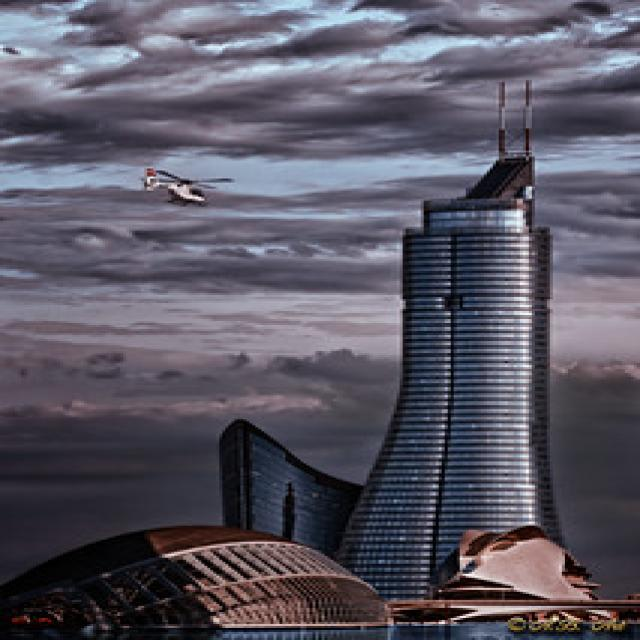building: (339, 145, 589, 605)
